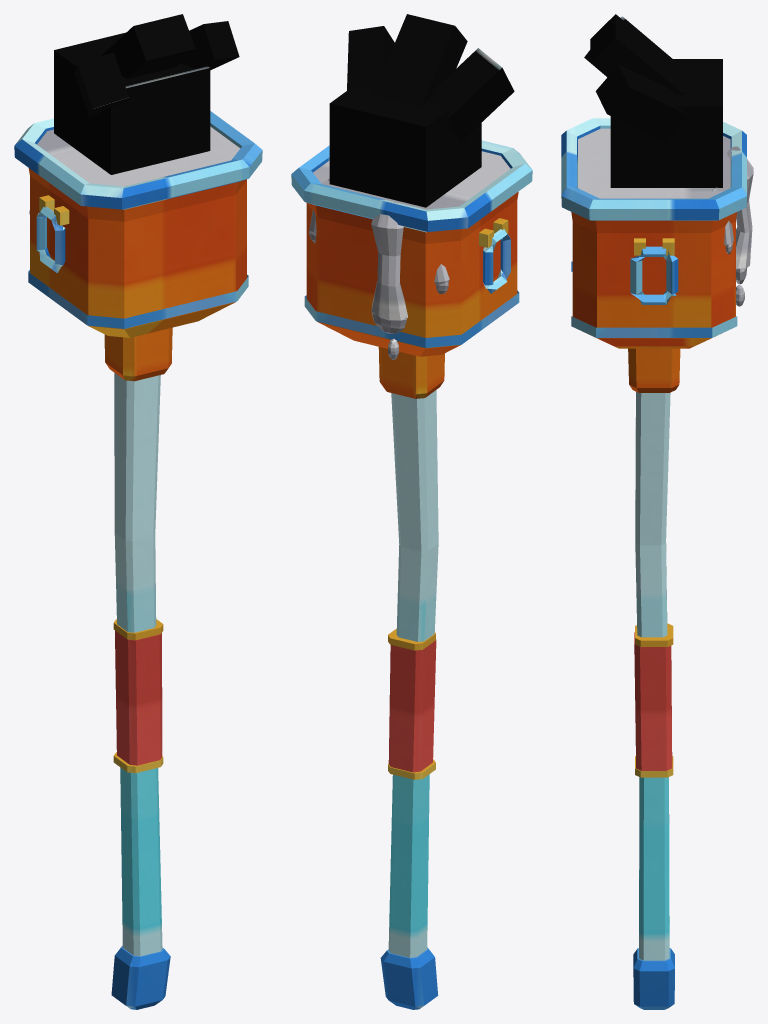
File: furnace_staff_ice.obj
3 views of the same model, side by side, from view 1: azimuth 30°, elevation 25°; view 2: azimuth 150°, elevation 25°; view 3: azimuth 270°, elevation 25° (orthographic). The views are drawn at different scales.
Visible parts, largest first — view 1: forged_square_cauldron, wooden_shaft, ICE_emerging_0, thick_square_rim, leather_grip, EM_elemental_pool, ICE_emerging_2, iron_foot_ferrule, neck_ferrule, lower_iron_binding, ICE_emerging_4, ICE_emerging_3 (+1 smaller); view 2: forged_square_cauldron, wooden_shaft, ICE_emerging_0, thick_square_rim, leather_grip, ICE_emerging_2, ICE_emerging_4, EM_overflow_0, iron_foot_ferrule, neck_ferrule, ICE_emerging_3, lower_iron_binding (+2 smaller); view 3: forged_square_cauldron, wooden_shaft, ICE_emerging_0, thick_square_rim, leather_grip, ICE_emerging_3, ICE_emerging_2, EM_elemental_pool, neck_ferrule, iron_foot_ferrule, lower_iron_binding, iron_side_loop_1 (+2 smaller).
Boxes of the visible parts, x1,y1,x2,y2 form: forged_square_cauldron: (28,168,246,337); wooden_shaft: (114,373,162,956); ICE_emerging_0: (54,32,210,174); thick_square_rim: (14,111,262,209); leather_grip: (115,630,162,765); EM_elemental_pool: (37,126,240,186); ICE_emerging_2: (101,14,195,78); iron_foot_ferrule: (111,946,170,1009); neck_ferrule: (104,327,172,381); lower_iron_binding: (28,270,248,328); ICE_emerging_4: (74,52,128,117); ICE_emerging_3: (180,21,239,70); forged_square_cauldron: (306,192,518,356); wooden_shaft: (388,390,438,957); ICE_emerging_0: (329,86,481,207); thick_square_rim: (291,140,532,232); leather_grip: (388,639,436,772); ICE_emerging_2: (373,14,467,106); ICE_emerging_4: (428,48,514,141); EM_overflow_0: (371,201,407,320); iron_foot_ferrule: (380,947,438,1009); neck_ferrule: (378,347,444,398); ICE_emerging_3: (347,26,394,91); lower_iron_binding: (304,290,519,347); forged_square_cauldron: (571,212,736,348); wooden_shaft: (635,392,670,960); ICE_emerging_0: (610,59,722,187); thick_square_rim: (561,118,746,220); leather_grip: (634,632,672,770); ICE_emerging_3: (595,64,688,141); ICE_emerging_2: (590,14,684,94); EM_elemental_pool: (578,128,730,198); neck_ferrule: (628,348,680,392); iron_foot_ferrule: (633,948,674,1009); lower_iron_binding: (571,261,737,337); iron_side_loop_1: (630,246,678,304).
Bounding box in the file's own units: 0.5475 × 2.81 × 0.5006.
